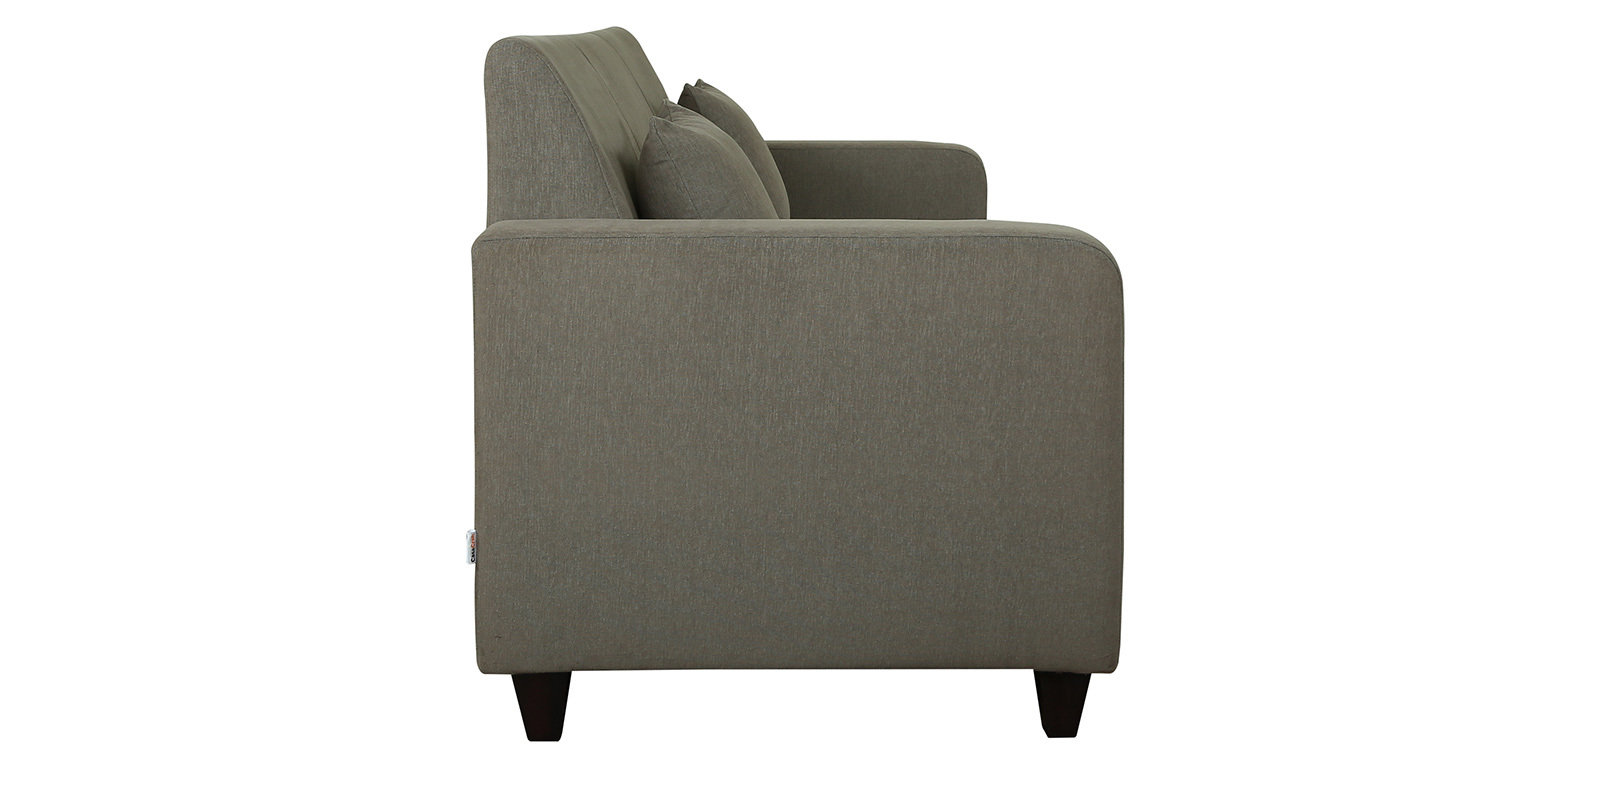Alba Three Seater Sofa in Sandy Brown Colour by CasaCraft: (453, 20, 1136, 749)
